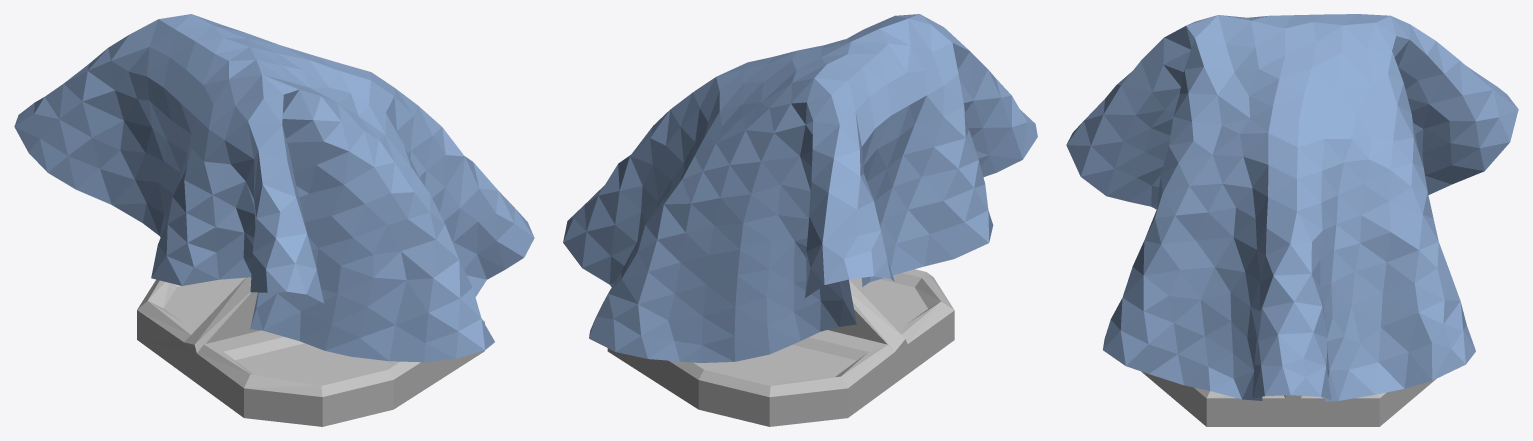
The model's file is level_0.glb.
The picture shows the model from 3 angles, left to right: view 1: azimuth 30°, elevation 25°; view 2: azimuth 150°, elevation 25°; view 3: azimuth 270°, elevation 25°; orthographic projection. The views are drawn at different scales.
Visible parts, largest first — view 1: world, object.obj; view 2: world, object.obj; view 3: world, object.obj.
Part boxes in pixels (left/top/right/bottom): world: left=14, top=14, right=534, bottom=362; object.obj: left=137, top=277, right=484, bottom=426; world: left=563, top=14, right=1037, bottom=362; object.obj: left=607, top=269, right=954, bottom=426; world: left=1066, top=14, right=1518, bottom=401; object.obj: left=1141, top=371, right=1435, bottom=426.
Bounding box in the file's own units: 0.4037 × 0.3042 × 0.4013.
